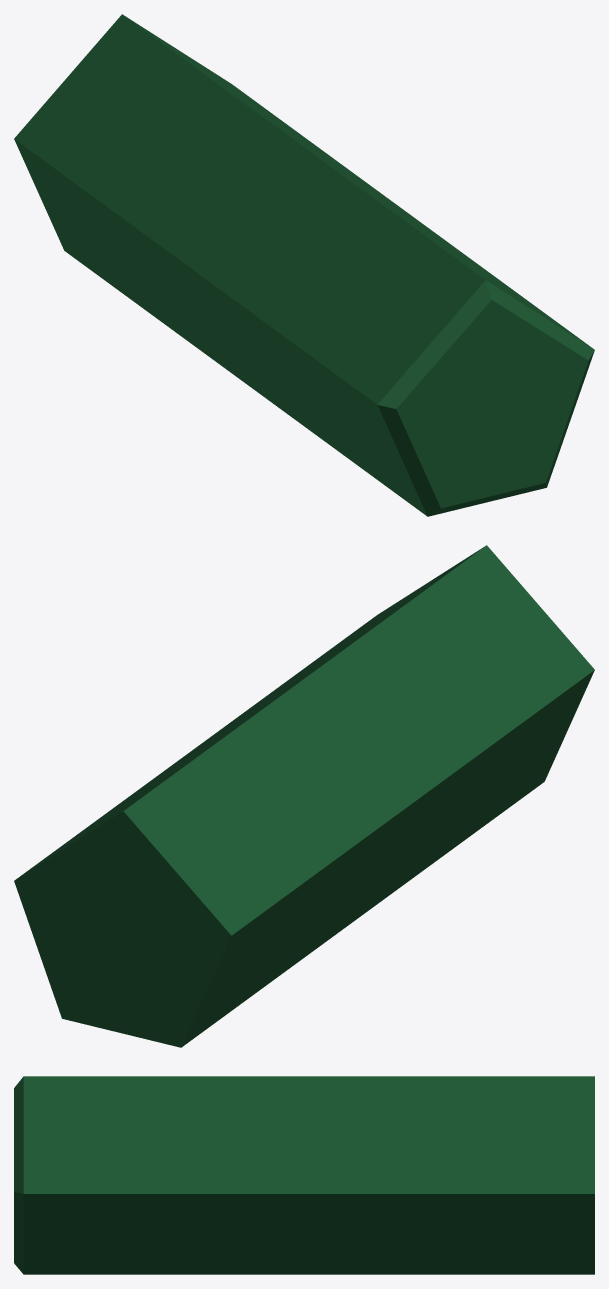
The model's file is Pentagon.fbx.
The picture shows the model from 3 angles, top to bottom: view 1: azimuth 30°, elevation 25°; view 2: azimuth 150°, elevation 25°; view 3: azimuth 270°, elevation 25°; orthographic projection. The views are drawn at different scales.
Visible parts, largest first — view 1: Pentagon; view 2: Pentagon; view 3: Pentagon.
Part boxes in pixels (box(x1,y1,x2,y2)): Pentagon: box(14, 14, 594, 516); Pentagon: box(14, 545, 594, 1047); Pentagon: box(14, 1076, 594, 1274).
Size of the model in its own units: 102 by 99.67 by 300.
